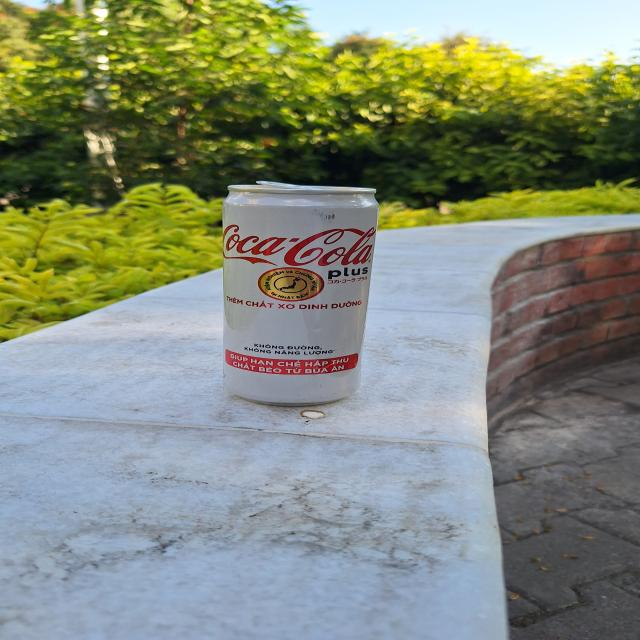Coca Cola Plus: (215, 179, 372, 407)
